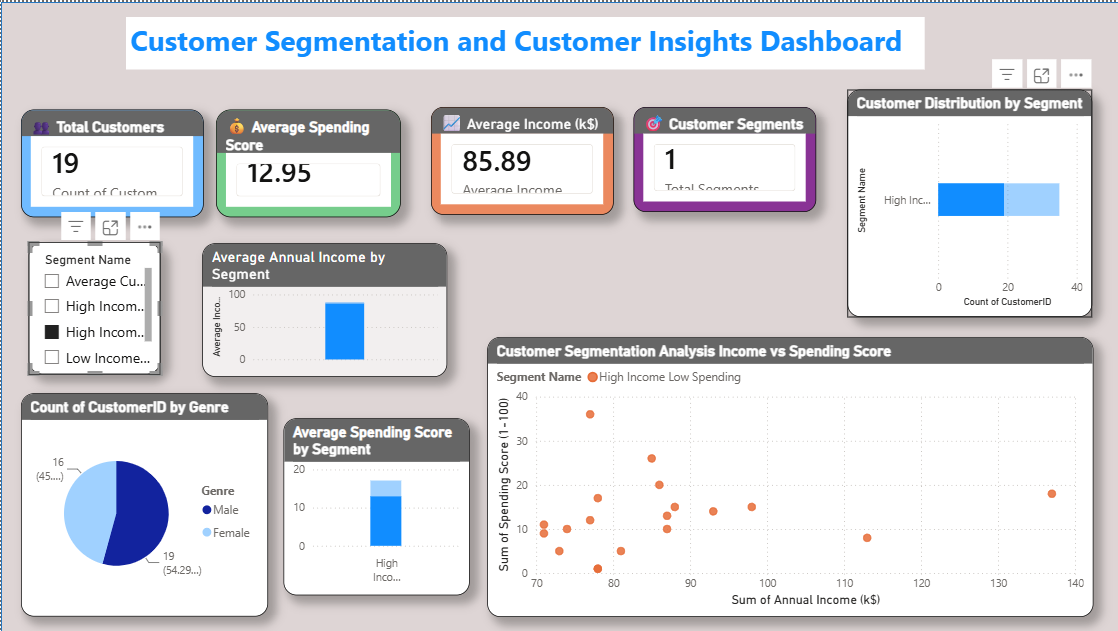

What the dashboard file says about the page in this screenshot:
{"tool":"powerbi","page":{"name":"Page 1","canvas":[1280,720],"ordinal":0},"visuals":[{"type":"clusteredBarChart","fields":{"Category":["Customer_Segments_Output.Segment Name"],"Y":["CountNonNull(Customer_Segments_Output.CustomerID)"]},"box":[986.7,103.3,280,280],"z":0},{"type":"cardVisual","fields":{"Data":["CountNonNull(Customer_Segments_Output.CustomerID)"]},"box":[23.3,103.3,206.7,133.3],"z":1000},{"type":"cardVisual","fields":{"Data":["Customer_Segments_Output.Average Income"]},"box":[526.7,96.7,206.7,150],"z":2000},{"type":"cardVisual","fields":{"Data":["Customer_Segments_Output.Average Spending"]},"box":[280,96.7,210,146.7],"z":3000},{"type":"pieChart","fields":{"Category":["Customer_Segments_Output.Genre"],"Y":["CountNonNull(Customer_Segments_Output.CustomerID)"]},"box":[0,438.6,281.4,281.4],"z":4000},{"type":"clusteredColumnChart","fields":{"Category":["Customer_Segments_Output.Segment Name"],"Y":["Customer_Segments_Output.Average Income"]},"box":[246.7,270,280,153.3],"z":5000},{"type":"clusteredColumnChart","fields":{"Category":["Customer_Segments_Output.Segment Name"],"Y":["Customer_Segments_Output.Average Spending"]},"box":[280,480,210,203.3],"z":6000},{"type":"scatterChart","fields":{"X":["Sum(Customer_Segments_Output.Annual Income (k$))"],"Y":["Sum(Customer_Segments_Output.Spending Score (1-100))"],"Series":["Customer_Segments_Output.Segment Name"],"Category":["Customer_Segments_Output.CustomerID"]},"box":[526.7,383.3,740,320],"z":7000},{"type":"textbox","box":[182.7,0,1082.7,107.7],"z":7001},{"type":"slicer","fields":{"Values":["Customer_Segments_Output.Segment Name"]},"box":[23.3,266.7,150,150],"z":7002},{"type":"cardVisual","fields":{"Data":["Customer_Segments_Output.Total Segments"]},"box":[796.7,113.3,150,116.7],"z":7003}]}

Visuals, with their boxes in screenshot pixels (x1, y1, x2, y2), scaled from the page's 1280x720 canvas onto the 1118x631 screenshot:
clusteredBarChart - Customer_Segments_Output.Segment Name x CountNonNull(Customer_Segments_Output.CustomerID): [862, 91, 1106, 336]
cardVisual - CountNonNull(Customer_Segments_Output.CustomerID): [20, 91, 201, 207]
cardVisual - Customer_Segments_Output.Average Income: [460, 85, 641, 216]
cardVisual - Customer_Segments_Output.Average Spending: [245, 85, 428, 213]
pieChart - Customer_Segments_Output.Genre x CountNonNull(Customer_Segments_Output.CustomerID): [0, 384, 246, 630]
clusteredColumnChart - Customer_Segments_Output.Segment Name x Customer_Segments_Output.Average Income: [215, 237, 460, 371]
clusteredColumnChart - Customer_Segments_Output.Segment Name x Customer_Segments_Output.Average Spending: [245, 421, 428, 599]
scatterChart - Sum(Customer_Segments_Output.Annual Income (k$)) x Sum(Customer_Segments_Output.Spending Score (1-100)): [460, 336, 1106, 616]
textbox: [160, 0, 1105, 94]
slicer - Customer_Segments_Output.Segment Name: [20, 234, 151, 365]
cardVisual - Customer_Segments_Output.Total Segments: [696, 99, 827, 202]
